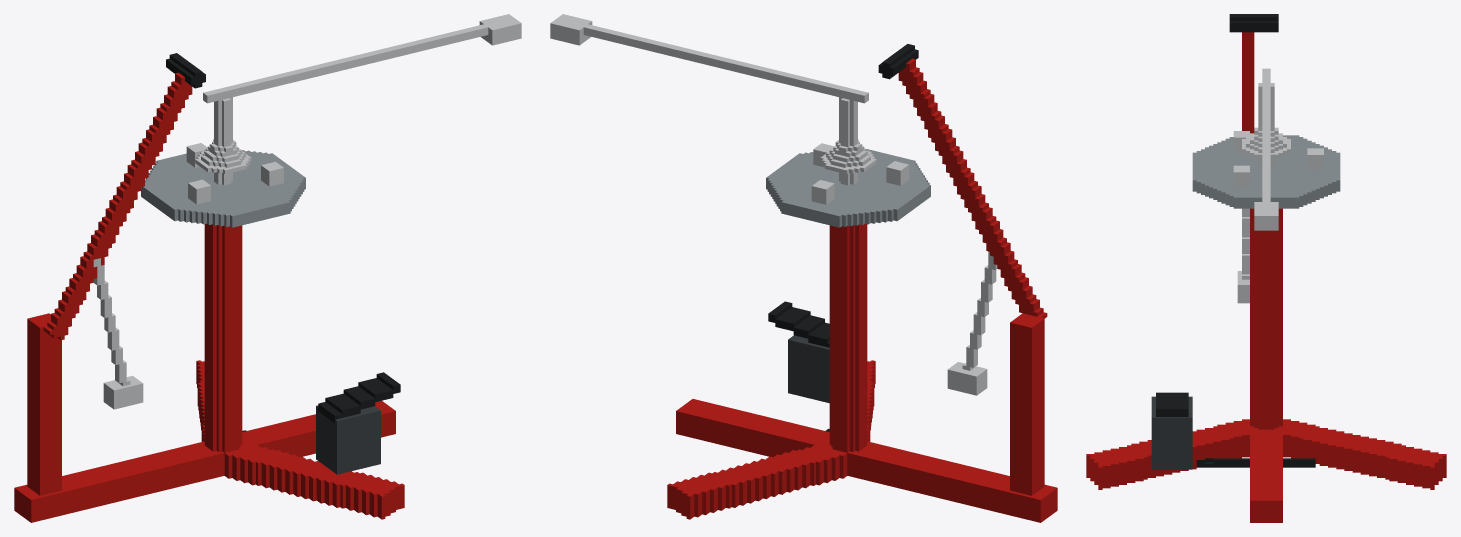
File: manual_tire_changer.glb
The picture shows the model from 3 angles, left to right: view 1: azimuth 30°, elevation 25°; view 2: azimuth 150°, elevation 25°; view 3: azimuth 270°, elevation 25°; orthographic projection. The views are drawn at different scales.
Parts seen in each view (by area): view 1: manual_tire_changer:compound; view 2: manual_tire_changer:compound; view 3: manual_tire_changer:compound.
Boxes of the visible parts, bbox=[...] form: manual_tire_changer:compound: bbox=[14, 14, 521, 522]; manual_tire_changer:compound: bbox=[550, 14, 1057, 522]; manual_tire_changer:compound: bbox=[1086, 14, 1446, 522].
Bounding box in the file's own units: 1.35 × 1.1 × 0.88.
